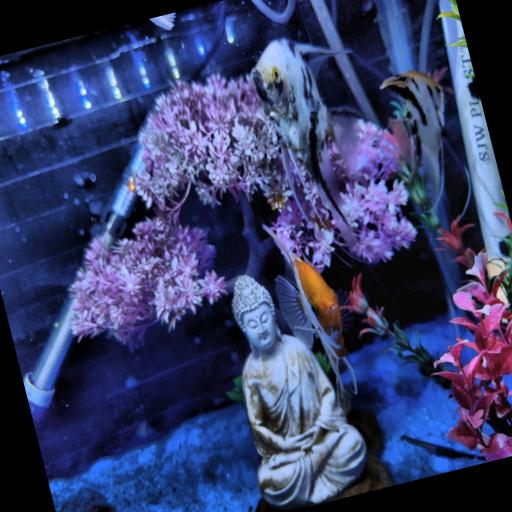Fish: (251, 40, 359, 250), (264, 225, 357, 402), (381, 70, 444, 205), (150, 13, 175, 30)
